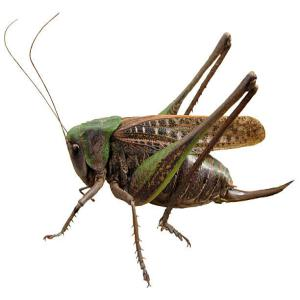locust: (37, 46, 286, 242)
